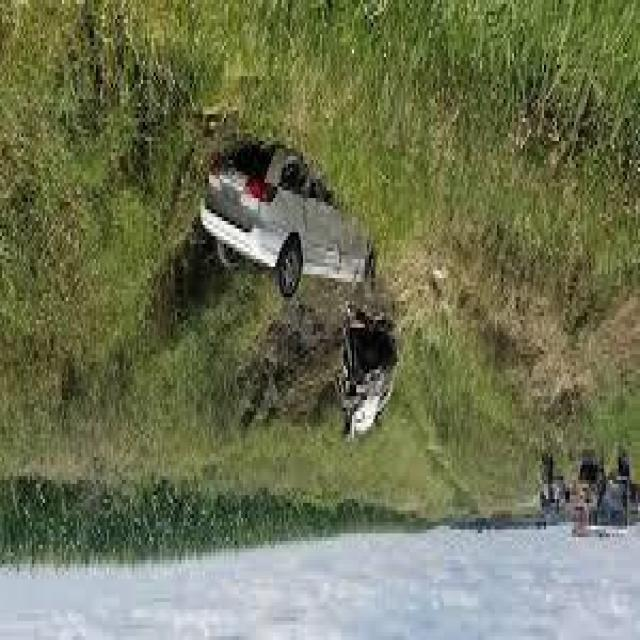severe: (188, 141, 378, 305), (337, 310, 403, 452)
